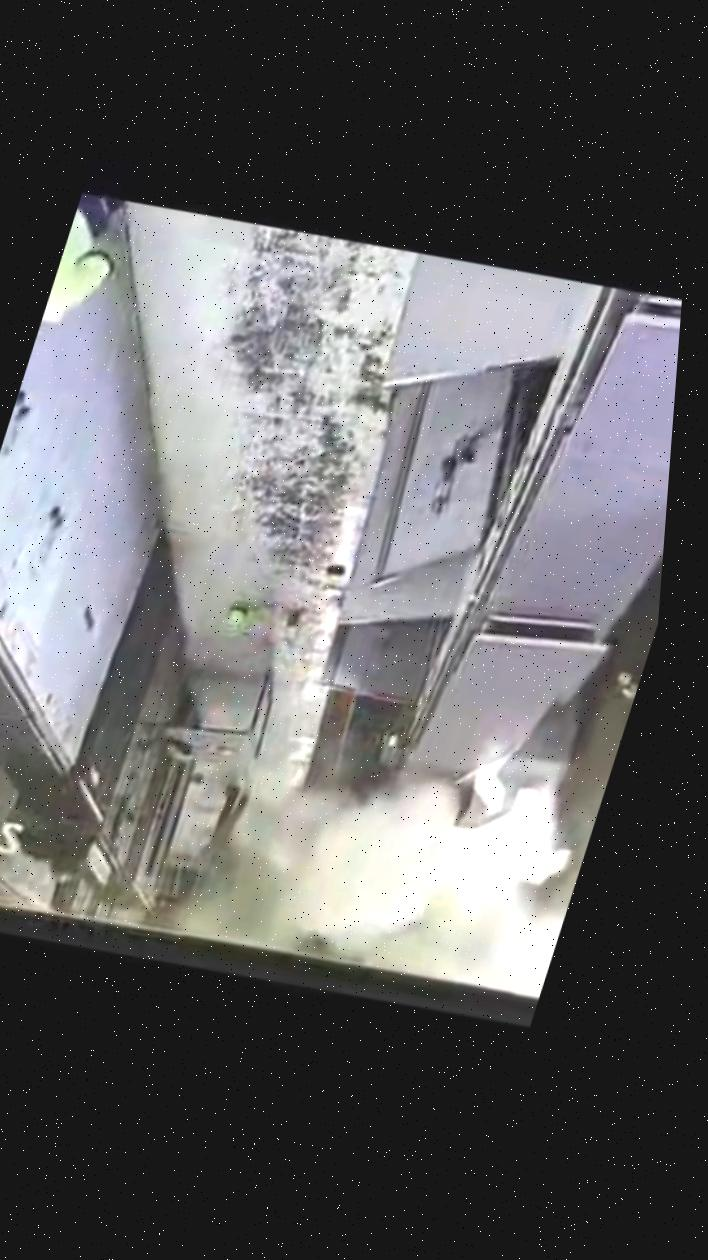smoke: (129, 743, 621, 980)
